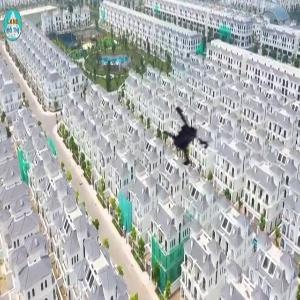drone: (152, 98, 236, 182)
